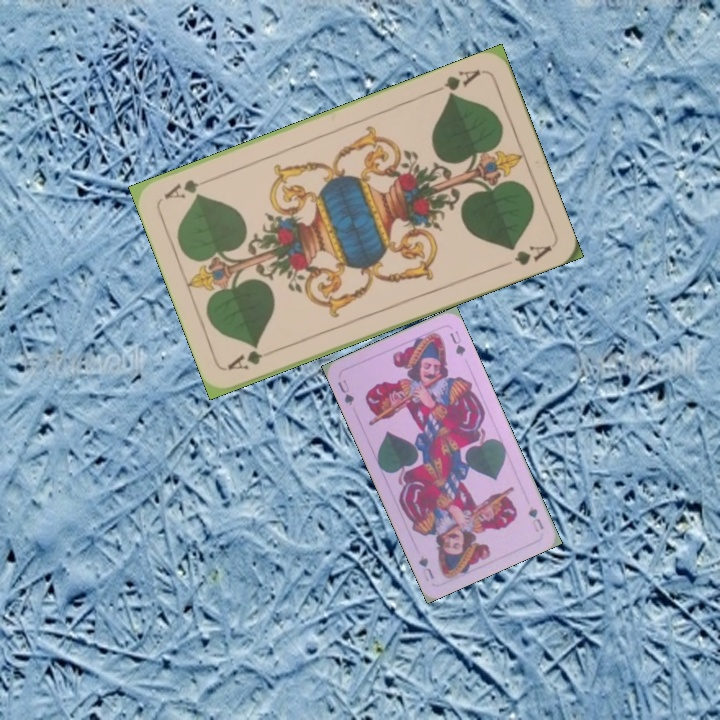GA: (429, 64, 483, 101), (223, 344, 281, 373)
GU: (333, 375, 357, 408), (524, 502, 546, 535)
